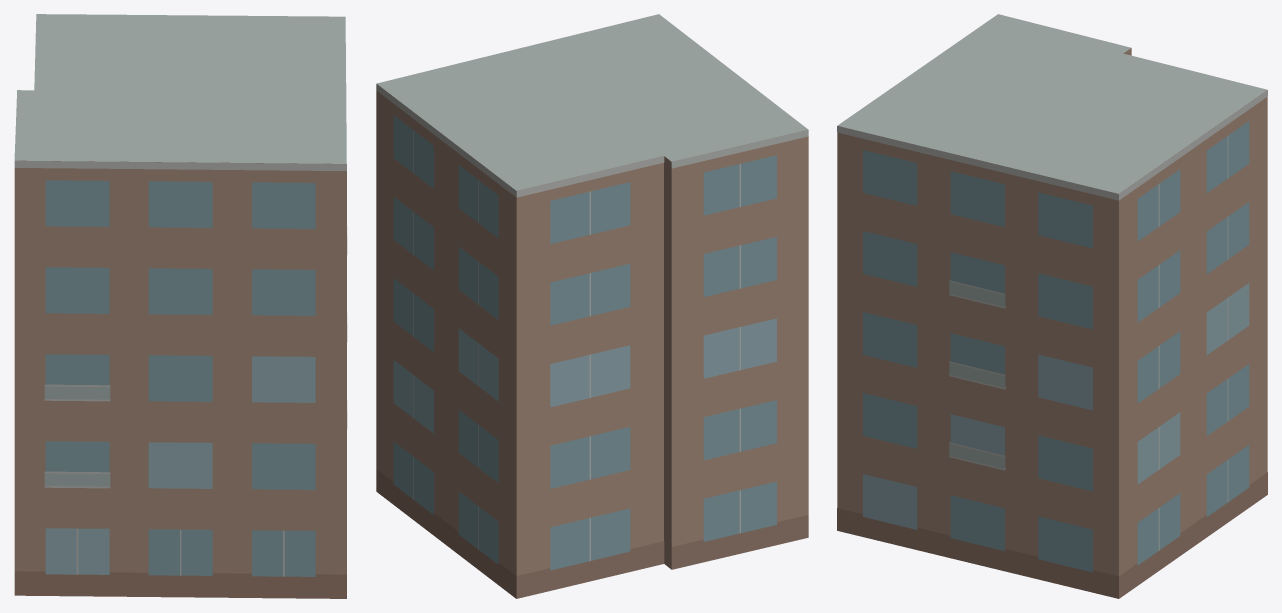
Rendered from survey-upis-32868944.glb.
The picture shows the model from 3 angles, left to right: view 1: azimuth 30°, elevation 25°; view 2: azimuth 150°, elevation 25°; view 3: azimuth 270°, elevation 25°; orthographic projection. The views are drawn at different scales.
Visible parts, largest first — view 1: survey-upis-32868944.tmp; view 2: survey-upis-32868944.tmp; view 3: survey-upis-32868944.tmp.
Part boxes in pixels (x1,y1,x2,y2): survey-upis-32868944.tmp: (14, 14, 347, 598); survey-upis-32868944.tmp: (376, 14, 808, 598); survey-upis-32868944.tmp: (837, 14, 1267, 598).
Bounding box in the file's own units: 14.01 × 14.7 × 14.18.
